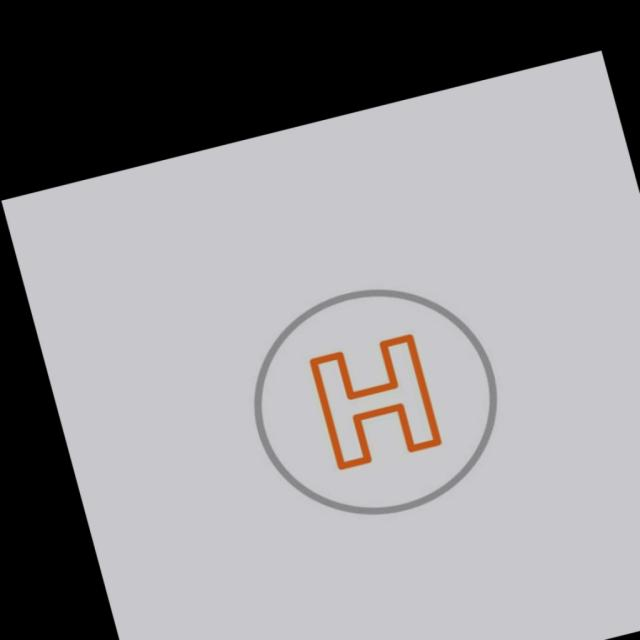helipad: (245, 282, 502, 517)
